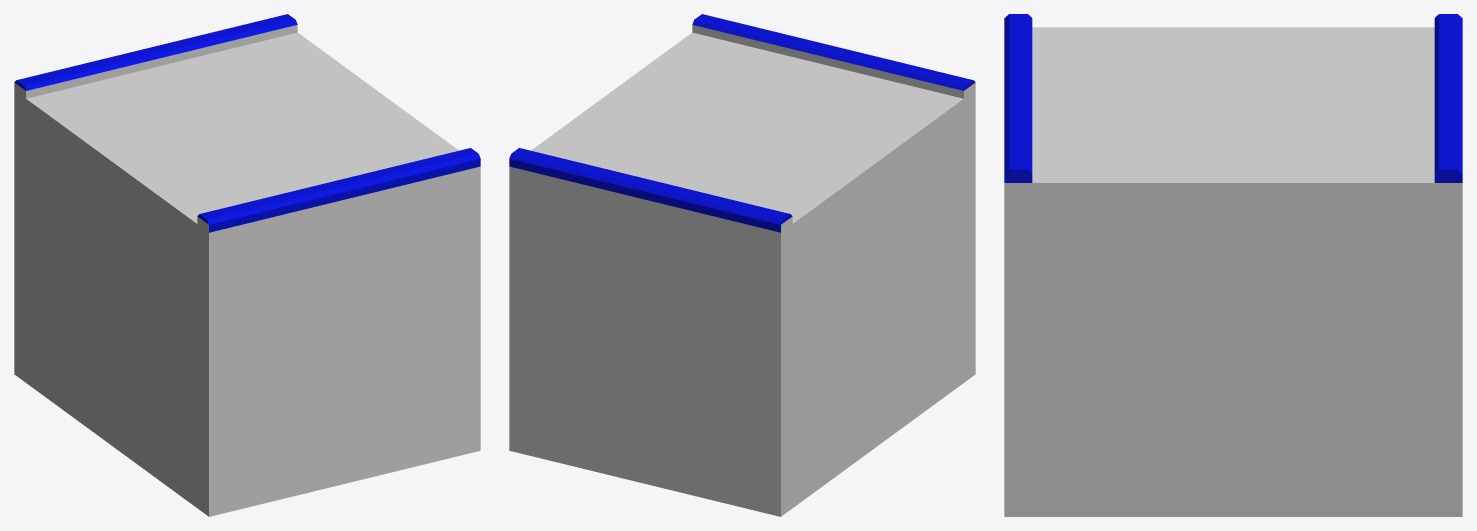
The model's file is Road.fbx.
3 views of the same model, side by side, from view 1: azimuth 30°, elevation 25°; view 2: azimuth 150°, elevation 25°; view 3: azimuth 270°, elevation 25° (orthographic). The views are drawn at different scales.
Parts seen in each view (by area): view 1: Straight; view 2: Straight; view 3: Straight.
Boxes of the visible parts, x1,y1,x2,y2 form: Straight: [14, 14, 480, 516]; Straight: [509, 14, 975, 516]; Straight: [1004, 14, 1462, 516].
Size of the model in its own units: 11 by 11.44 by 13.67.
